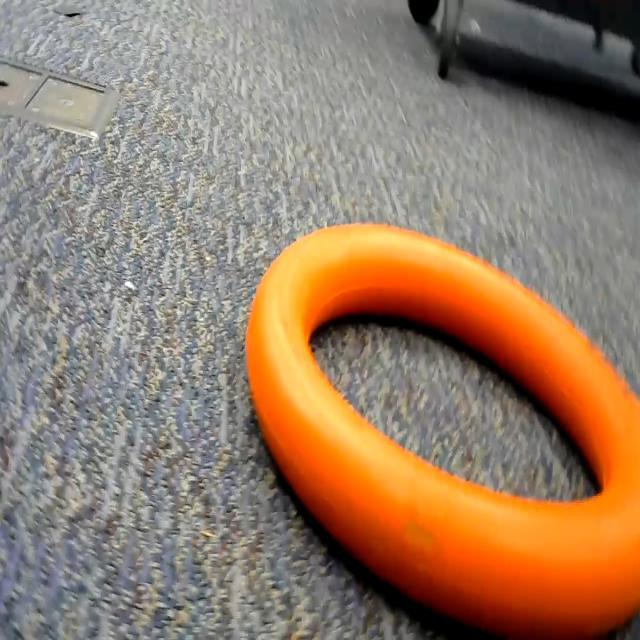note: (247, 198, 640, 640)
